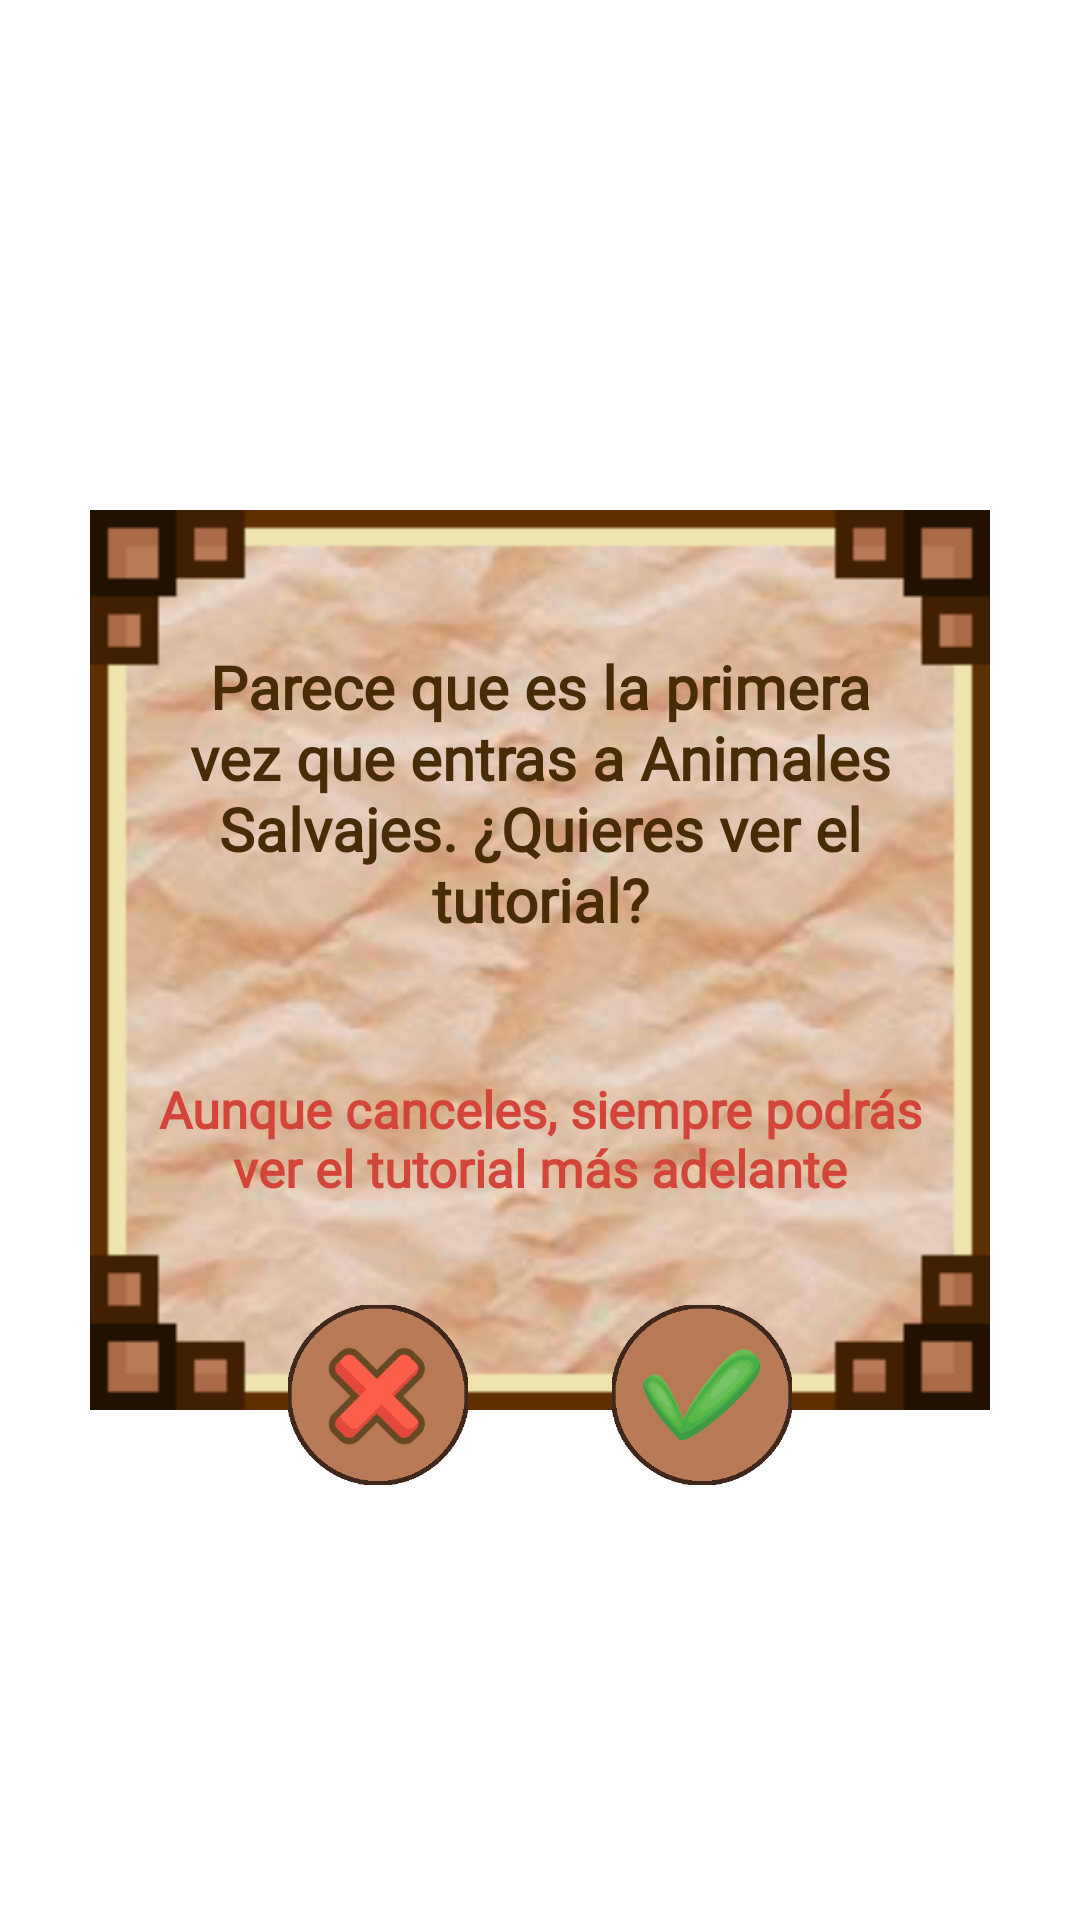

Icon click points for this 1080px x 1920px phone screenshot, format [x,y]:
aceptar: [702,1395]
cerrar: [378,1395]
